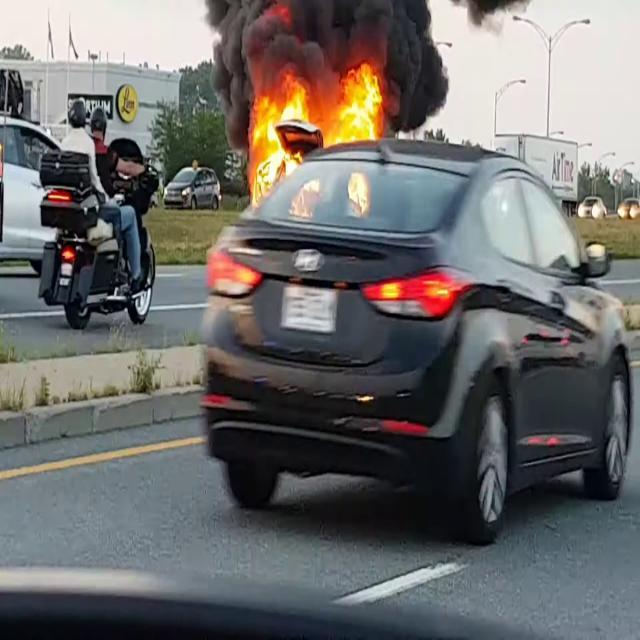Fire: (244, 58, 390, 214)
Smoke: (174, 0, 463, 94)
